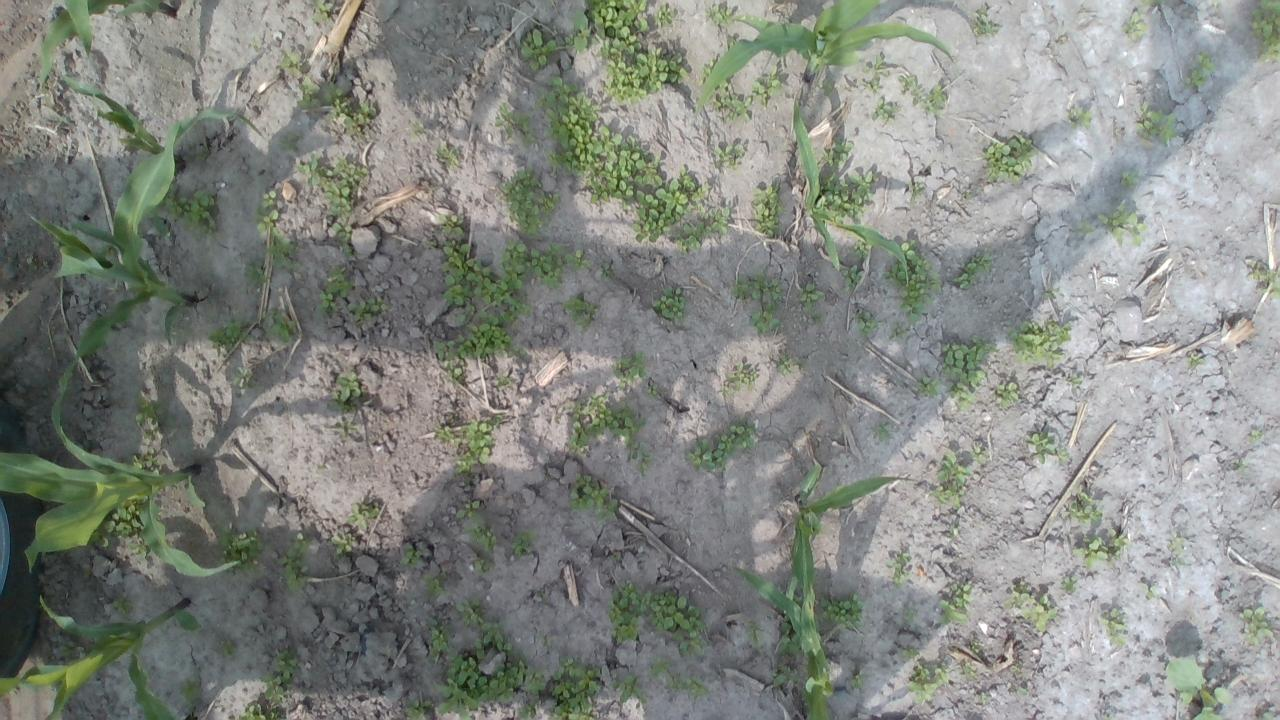Maize: (28, 109, 264, 368), (0, 360, 247, 584), (696, 0, 956, 112), (0, 597, 201, 720), (785, 463, 915, 651), (791, 98, 914, 286), (733, 564, 832, 720), (59, 75, 184, 176), (38, 0, 177, 84)
Weeds: (442, 239, 532, 326), (536, 77, 600, 178), (434, 651, 527, 720), (596, 40, 688, 108), (586, 126, 662, 205), (634, 167, 706, 244), (882, 239, 942, 321), (296, 153, 370, 214), (565, 393, 646, 448), (1165, 656, 1231, 720), (650, 591, 709, 658), (502, 170, 560, 238), (574, 0, 648, 52), (432, 323, 526, 359), (1006, 320, 1072, 371), (550, 656, 602, 720), (814, 170, 878, 221), (982, 132, 1036, 187), (940, 335, 994, 388), (604, 582, 650, 644), (1002, 582, 1058, 632), (566, 472, 619, 522), (216, 524, 264, 578), (163, 189, 217, 235), (258, 648, 300, 706), (1097, 204, 1149, 250), (262, 226, 306, 276), (1249, 0, 1280, 65), (278, 530, 310, 592), (1134, 102, 1177, 146), (465, 414, 502, 465), (133, 397, 176, 440), (818, 590, 864, 630), (494, 102, 534, 148), (529, 243, 569, 289), (906, 662, 950, 703), (518, 28, 556, 73), (205, 315, 258, 347), (731, 272, 785, 303), (936, 580, 972, 626), (751, 183, 781, 238), (712, 80, 752, 121), (332, 96, 374, 133), (612, 352, 650, 391), (937, 450, 974, 490), (1246, 257, 1280, 300), (327, 369, 360, 412), (1066, 489, 1104, 526), (688, 437, 726, 474), (1239, 606, 1274, 646), (297, 80, 343, 110), (264, 306, 300, 344), (720, 361, 760, 395), (750, 66, 782, 108), (954, 256, 992, 291), (649, 286, 685, 322), (473, 620, 511, 654), (564, 294, 600, 329), (1072, 536, 1109, 570), (253, 191, 279, 239), (110, 503, 145, 538), (328, 216, 357, 258), (777, 615, 805, 658), (1098, 607, 1128, 647), (750, 301, 784, 336), (611, 672, 647, 704), (818, 138, 854, 168), (718, 424, 754, 454), (1024, 432, 1056, 464), (913, 84, 945, 116), (1186, 52, 1216, 86), (346, 502, 378, 532), (326, 266, 354, 300), (348, 297, 384, 323), (128, 447, 162, 474), (702, 206, 732, 236), (849, 306, 878, 337), (712, 144, 744, 172), (676, 222, 704, 253), (510, 527, 538, 557), (1123, 12, 1150, 42), (668, 677, 706, 698), (888, 553, 910, 589), (329, 531, 358, 558), (1107, 528, 1130, 562), (470, 524, 496, 554), (798, 281, 824, 311), (630, 440, 654, 472), (421, 572, 448, 600), (949, 383, 975, 412), (1166, 534, 1188, 568), (931, 486, 964, 508), (88, 518, 112, 548), (455, 598, 482, 624), (437, 212, 464, 238), (566, 247, 594, 272), (704, 4, 734, 27), (995, 382, 1020, 409), (839, 263, 863, 291), (59, 640, 96, 658), (242, 260, 267, 286), (870, 96, 897, 120), (240, 702, 276, 720), (278, 47, 300, 76), (916, 374, 943, 397), (441, 359, 464, 386), (426, 626, 448, 654), (404, 698, 432, 720), (316, 290, 339, 316), (896, 74, 923, 96), (770, 668, 799, 688), (400, 544, 423, 569), (179, 678, 205, 700), (862, 55, 889, 76), (524, 670, 547, 694), (435, 144, 460, 166), (1068, 105, 1092, 127), (182, 146, 213, 163), (455, 500, 479, 521), (1119, 169, 1144, 189), (647, 656, 672, 676), (439, 426, 464, 446), (232, 366, 254, 388), (518, 699, 541, 720), (974, 16, 998, 36), (314, 0, 332, 26), (652, 5, 672, 28), (110, 596, 130, 619), (699, 60, 717, 85), (219, 638, 240, 658), (852, 238, 871, 260), (750, 622, 764, 651), (280, 134, 300, 154), (334, 420, 354, 439), (128, 541, 148, 560), (874, 421, 892, 442), (1061, 573, 1079, 594), (958, 662, 978, 680), (776, 354, 794, 374), (456, 456, 474, 474), (600, 262, 615, 282), (1142, 582, 1158, 600), (1138, 0, 1172, 8), (970, 446, 985, 464), (472, 559, 490, 574), (850, 670, 864, 689), (1188, 352, 1202, 370), (864, 78, 879, 93), (891, 323, 905, 339), (412, 121, 426, 136), (968, 640, 981, 656), (1076, 222, 1092, 235), (904, 606, 914, 626), (822, 78, 833, 96), (496, 374, 512, 386), (724, 36, 737, 50), (644, 384, 659, 396), (911, 182, 922, 198), (1044, 288, 1058, 300), (1234, 460, 1248, 472), (948, 524, 961, 536), (904, 648, 919, 658), (1259, 711, 1275, 720), (1070, 373, 1082, 385), (1057, 448, 1068, 460), (1250, 430, 1262, 441), (812, 312, 824, 323), (979, 692, 988, 706), (1017, 686, 1029, 696), (563, 32, 573, 44), (541, 639, 552, 649), (249, 36, 258, 48)
